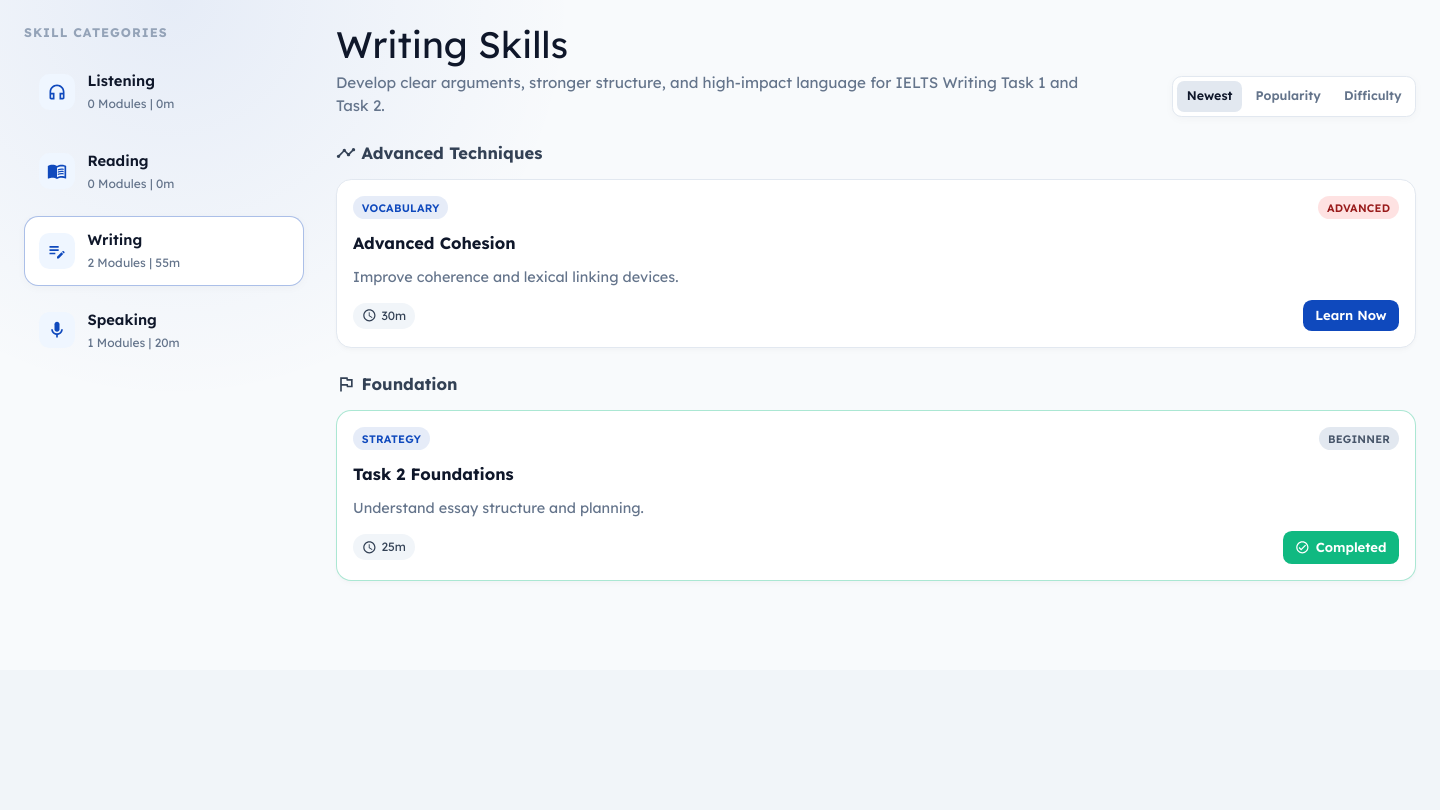
Test: LearnPage catalog › loads modules for selected category
Expected: the heading "Writing Skills" is shown, 336,21 -> 568,67
Click the button "Speaking 1 Modules | 20m" at (57, 330), box 24,295 -> 304,365
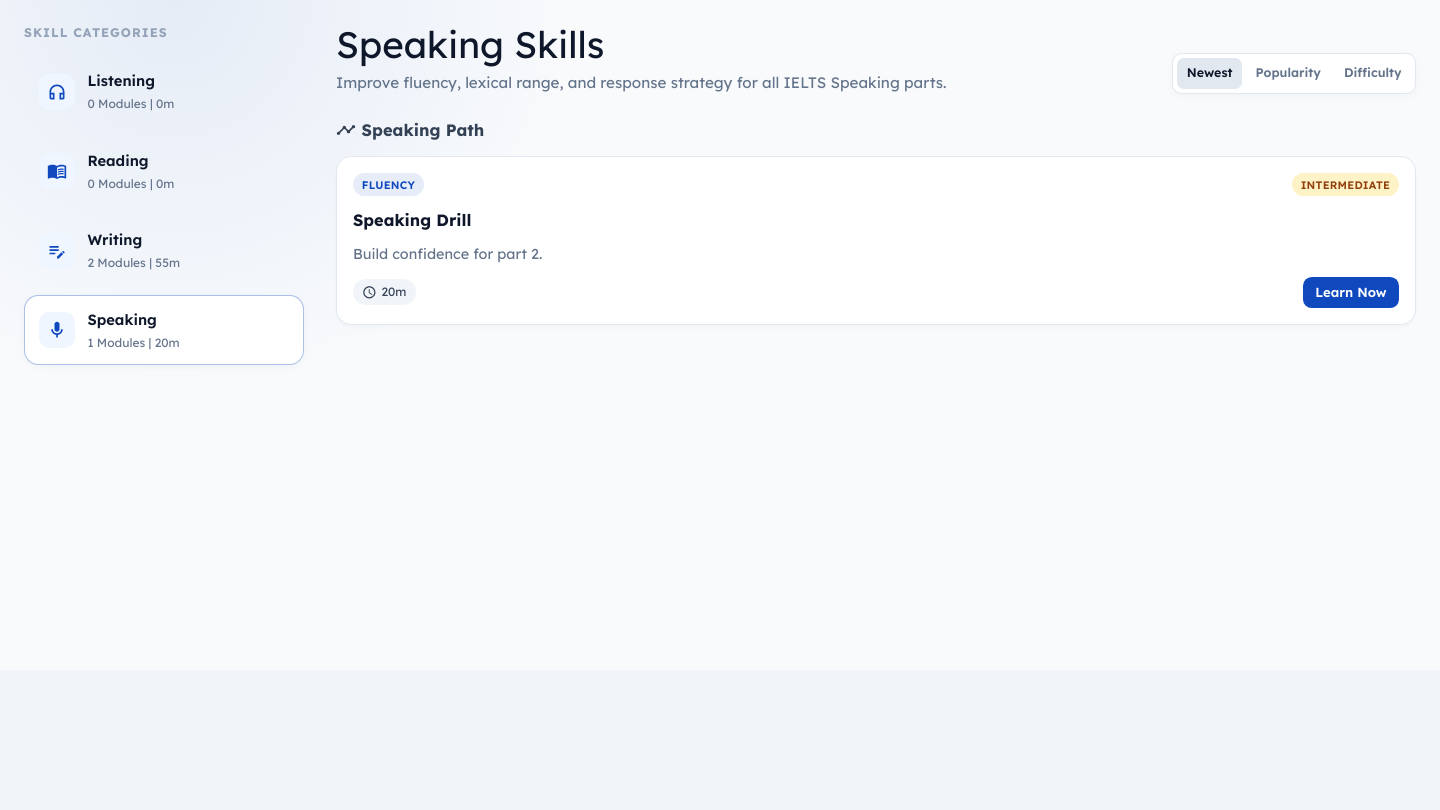
Expected: the heading "Speaking Skills" is shown, 336,21 -> 604,67
Expected: the heading "Speaking Drill" is shown, 353,210 -> 472,230
